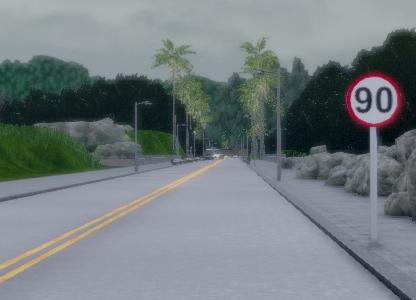Speed_90: (343, 69, 404, 129)
